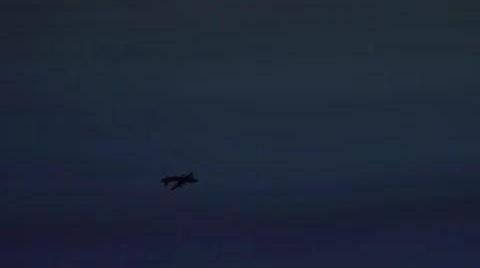Plane: (142, 165, 217, 197)
